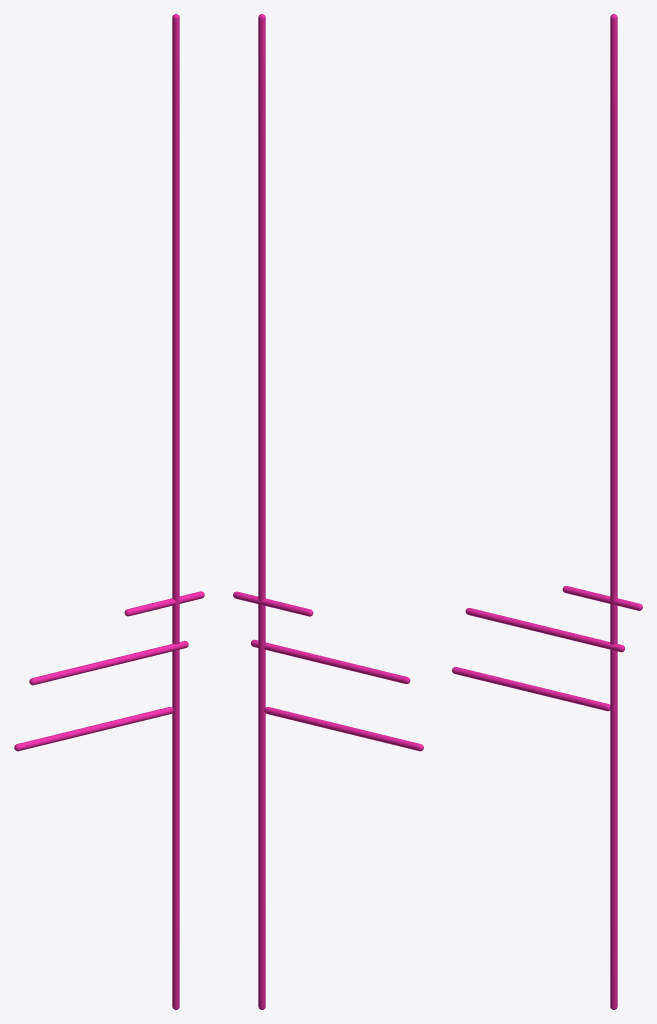
Rendered from pipe3.fbx.
3 renders of one model, left to right at view 1: azimuth 30°, elevation 25°; view 2: azimuth 150°, elevation 25°; view 3: azimuth 330°, elevation 25°, orthographic.
Parts seen in each view (by area): view 1: Oil_Tank_4, Oil_Tank, Oil_Tank_1, Oil_Tank_2; view 2: Oil_Tank_4, Oil_Tank, Oil_Tank_1, Oil_Tank_2; view 3: Oil_Tank_4, Oil_Tank, Oil_Tank_1, Oil_Tank_2.
Boxes of the visible parts, x1,y1,x2,y2 form: Oil_Tank_4: (172,14,179,1009); Oil_Tank: (14,707,173,751); Oil_Tank_1: (29,641,188,685); Oil_Tank_2: (124,591,204,616); Oil_Tank_4: (258,14,265,1009); Oil_Tank: (264,707,423,751); Oil_Tank_1: (251,639,410,684); Oil_Tank_2: (233,591,313,616); Oil_Tank_4: (610,14,617,1009); Oil_Tank: (452,666,610,711); Oil_Tank_1: (465,608,624,652); Oil_Tank_2: (562,586,642,610).
Bounding box in the file's own units: 598 × 3000 × 24.95.
